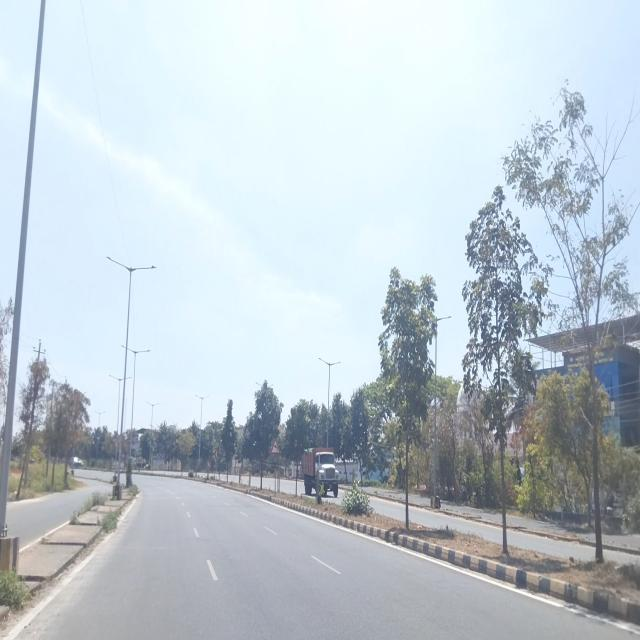bien_cam: (271, 439, 280, 454)
